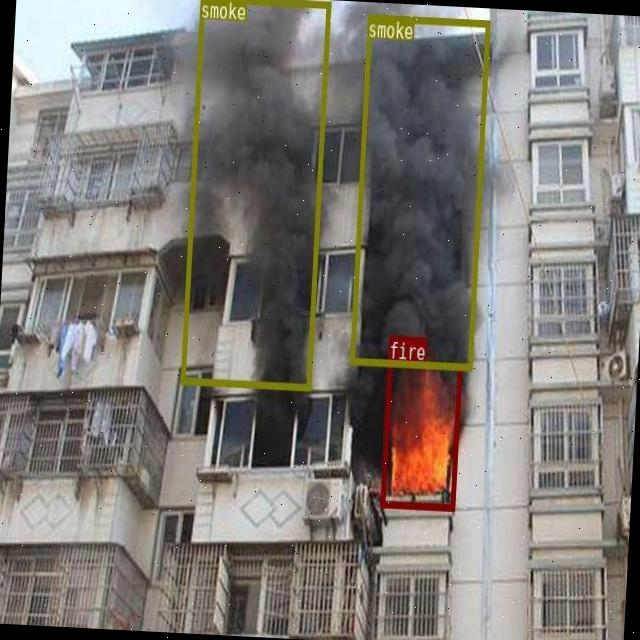fire: (380, 360, 462, 510)
smoke: (180, 0, 329, 389), (349, 13, 490, 370)
